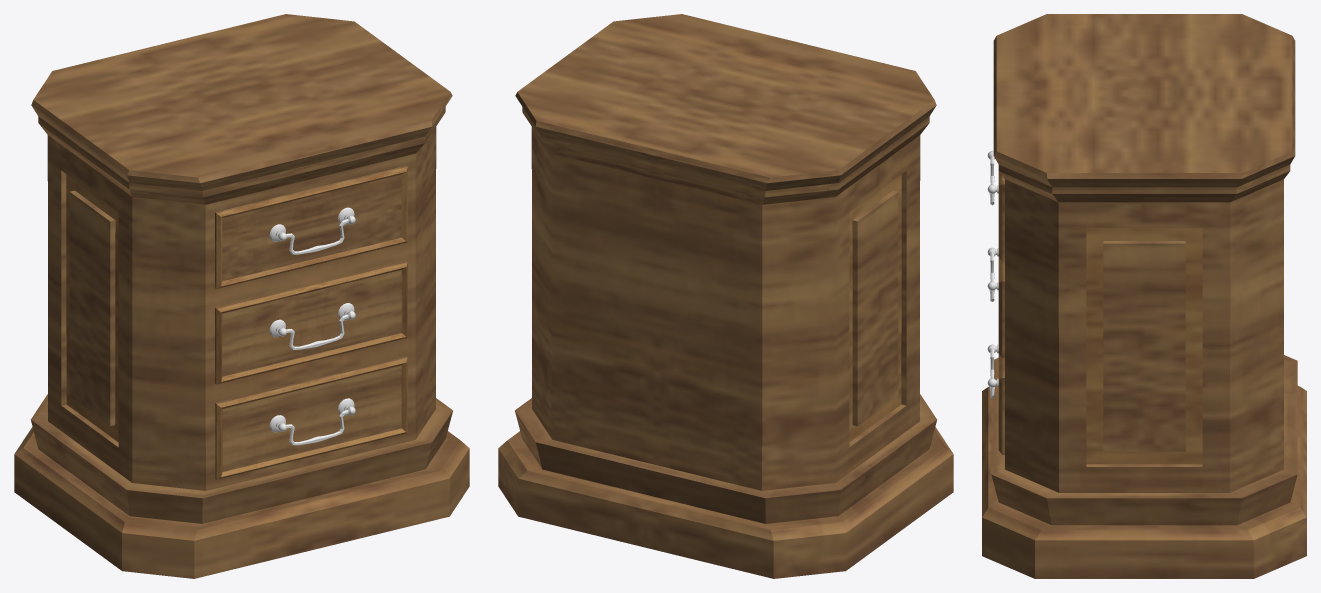
Rendered from NightStand.fbx.
3 renders of one model, left to right at view 1: azimuth 30°, elevation 25°; view 2: azimuth 150°, elevation 25°; view 3: azimuth 270°, elevation 25°, orthographic.
Visible parts, largest first — view 1: Cube.007, Cube.008; view 2: Cube.007; view 3: Cube.007, Cube.008.
Boxes of the visible parts, x1,y1,x2,y2 form: Cube.007: [14, 14, 469, 578]; Cube.008: [215, 165, 407, 479]; Cube.007: [498, 14, 953, 578]; Cube.007: [982, 14, 1306, 578]; Cube.008: [987, 150, 1004, 454].
Bounding box in the file's own units: 24.64 × 26.65 × 19.64.
